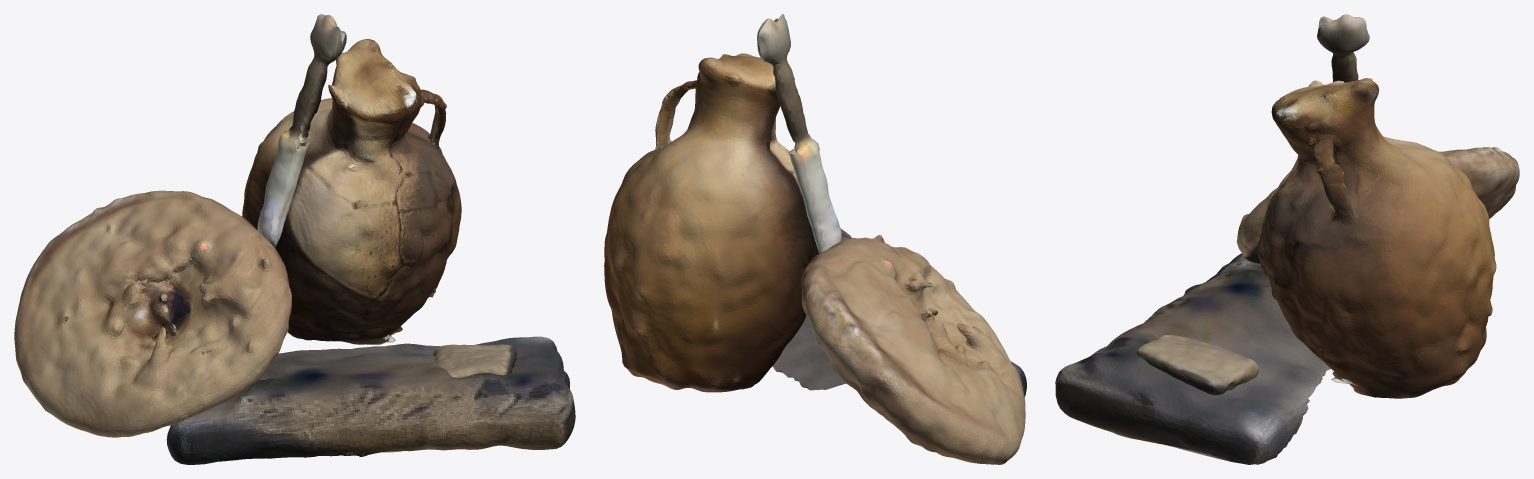
Rendered from gen3dsr_no_bg.glb.
3 renders of one model, left to right at view 1: azimuth 30°, elevation 25°; view 2: azimuth 150°, elevation 25°; view 3: azimuth 270°, elevation 25°, orthographic. The views are drawn at different scales.
Visible parts, largest first — view 1: 4.obj, 3.obj, 1.obj, 0.obj, 2.obj; view 2: 3.obj, 4.obj, 0.obj, 1.obj; view 3: 3.obj, 1.obj, 2.obj, 4.obj, 0.obj.
Part boxes in pixels (x1=…): 4.obj: x1=14, y1=190, x2=291, y2=437; 3.obj: x1=242, y1=39, x2=461, y2=344; 1.obj: x1=166, y1=336, x2=575, y2=464; 0.obj: x1=257, y1=14, x2=346, y2=247; 2.obj: x1=433, y1=344, x2=516, y2=377; 3.obj: x1=604, y1=53, x2=818, y2=392; 4.obj: x1=801, y1=235, x2=1025, y2=464; 0.obj: x1=757, y1=14, x2=841, y2=253; 1.obj: x1=772, y1=228, x2=1026, y2=396; 3.obj: x1=1257, y1=78, x2=1496, y2=398; 1.obj: x1=1055, y1=253, x2=1330, y2=464; 2.obj: x1=1136, y1=334, x2=1258, y2=395; 4.obj: x1=1236, y1=147, x2=1519, y2=264; 0.obj: x1=1317, y1=14, x2=1369, y2=82.
Size of the model in its own units: 0.9752 by 0.7835 by 0.8769.
5 materials, 5 textured.
